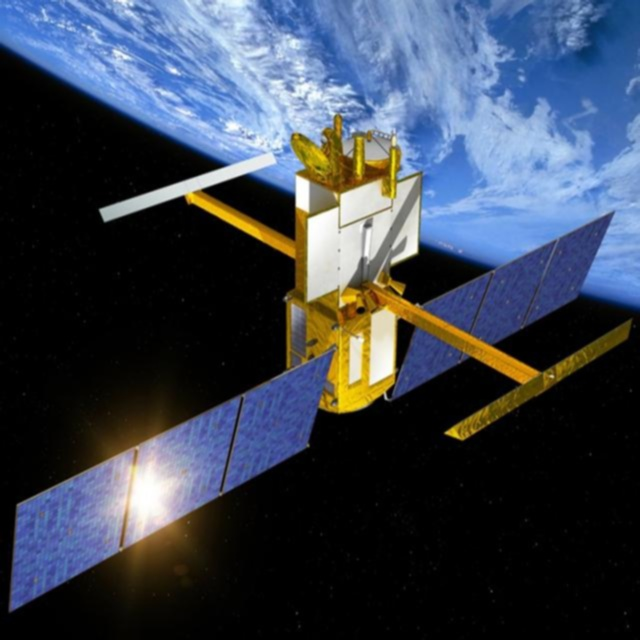medium_debris: (12, 95, 634, 619)
